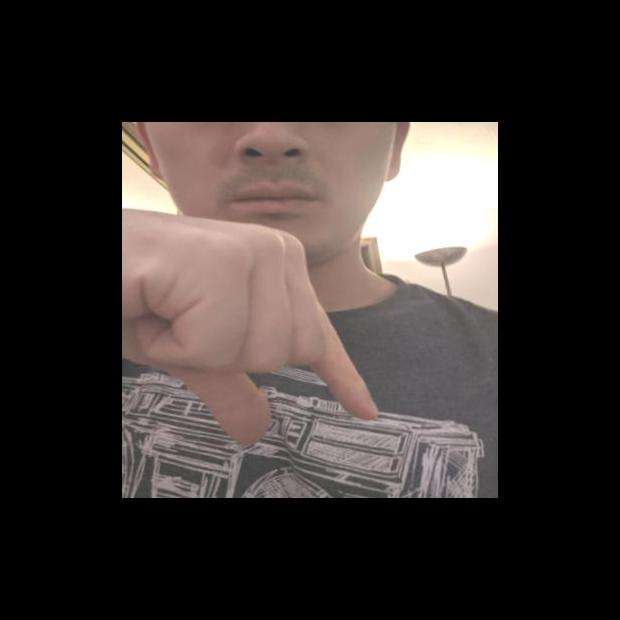P: (122, 183, 388, 462)
